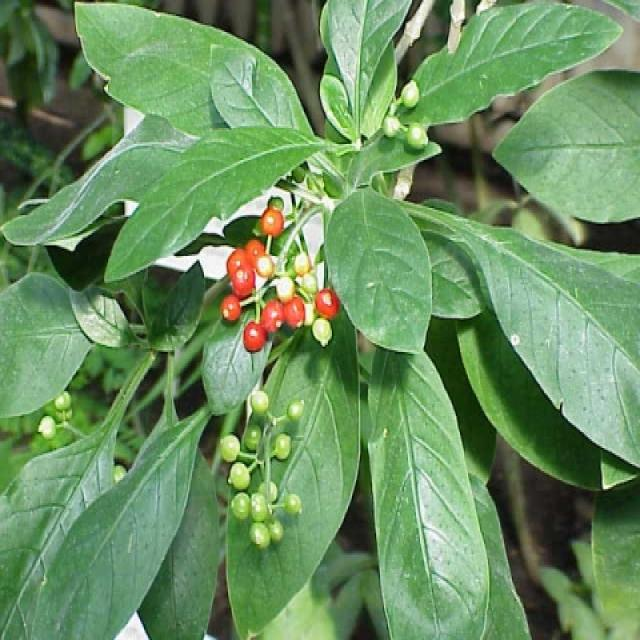Ipecac: (33, 14, 627, 639), (26, 126, 640, 640), (71, 26, 524, 382), (137, 297, 410, 640), (312, 31, 480, 226), (199, 207, 334, 398)
